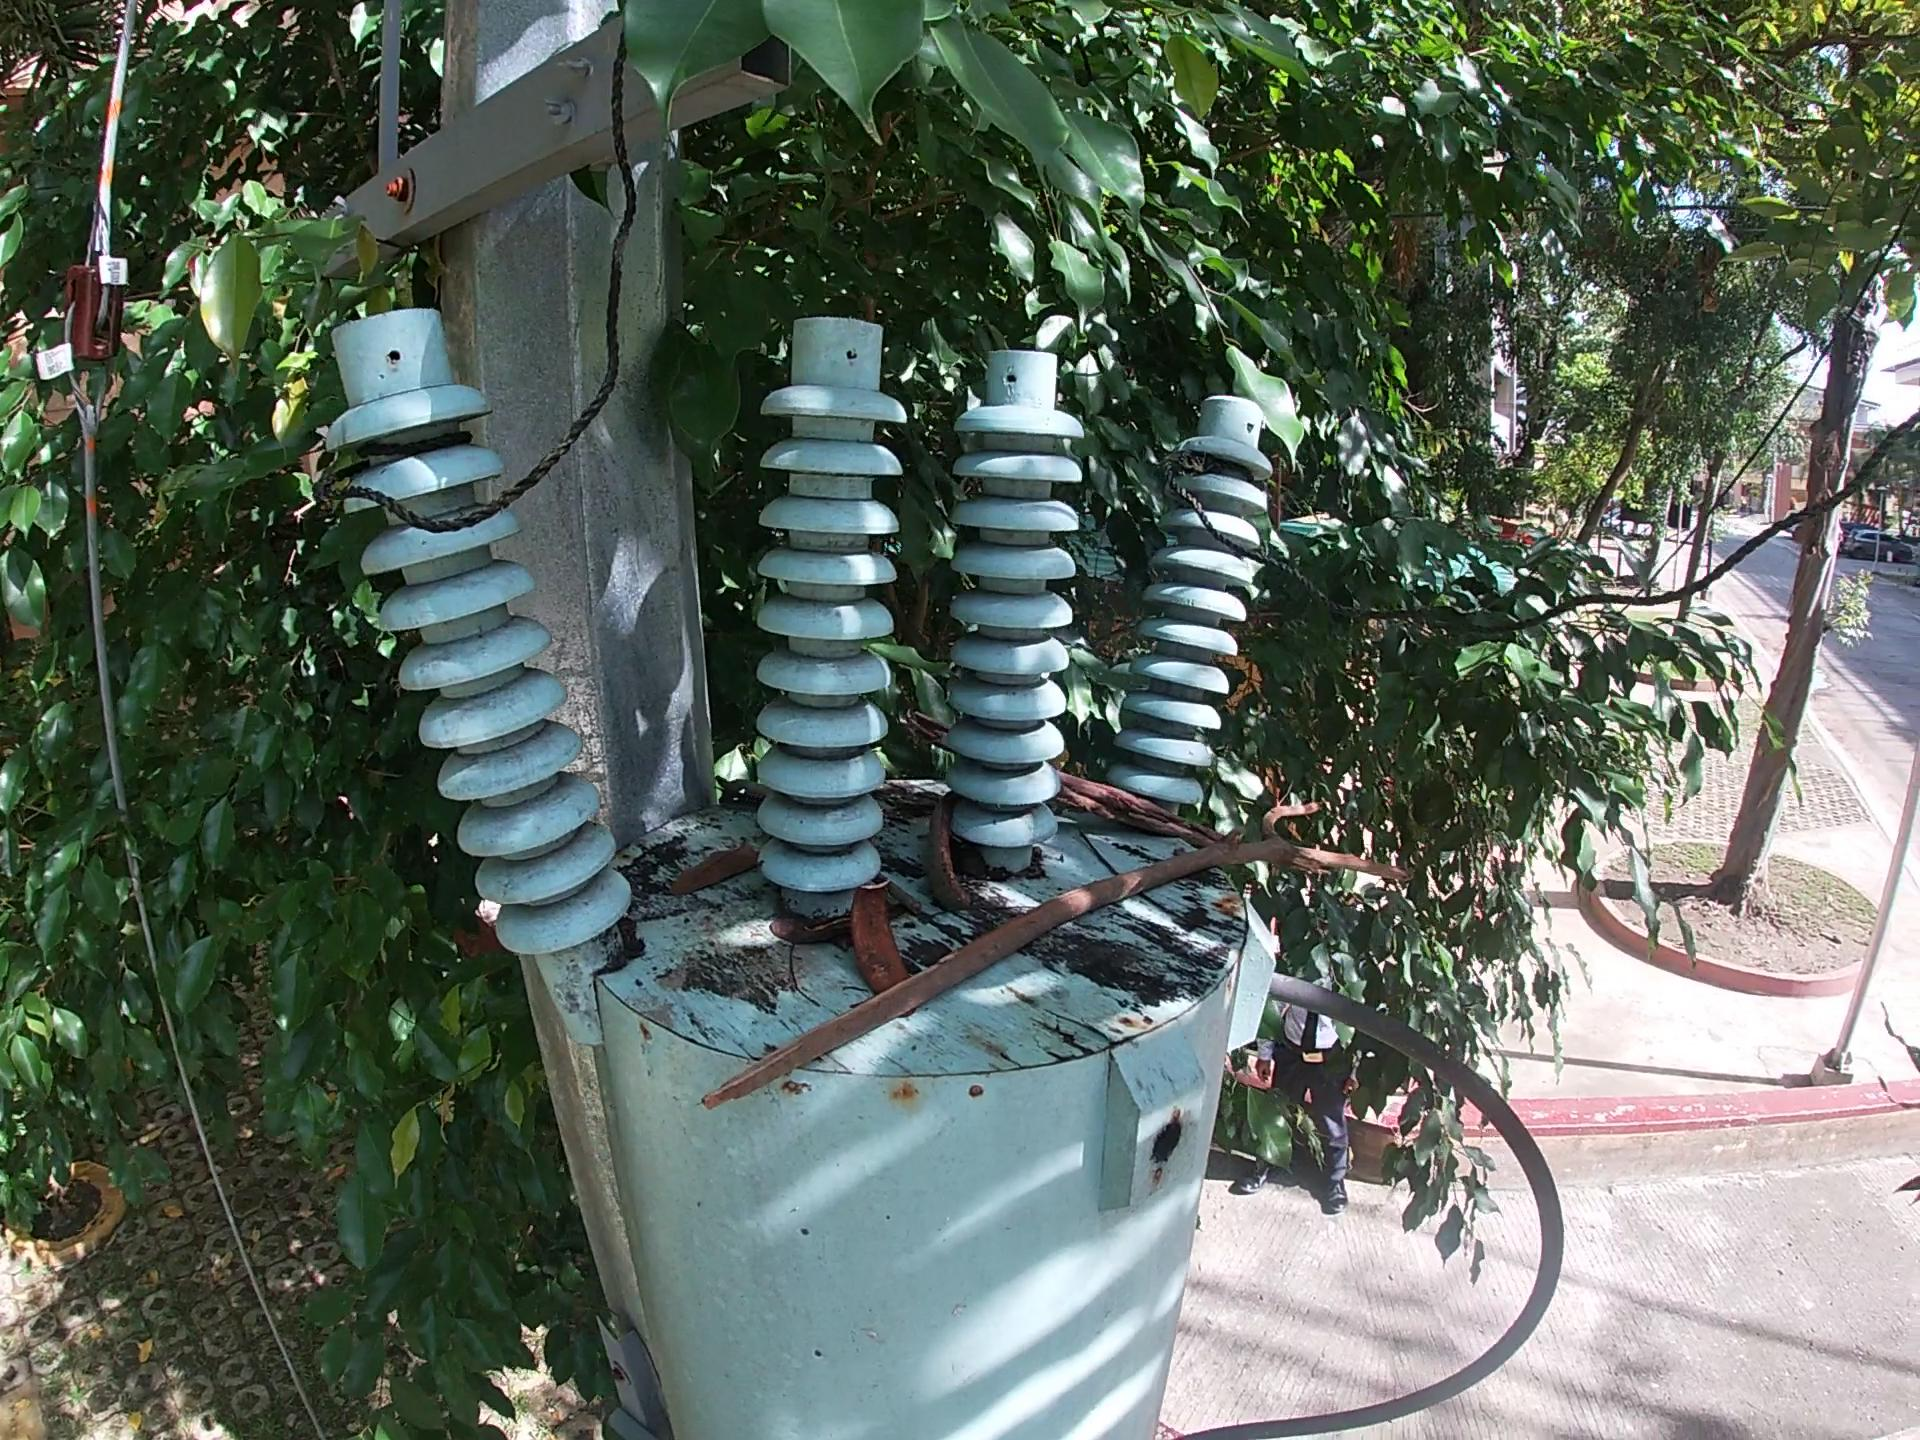leaf: (665, 839, 760, 906), (762, 905, 841, 956)
mahogany fruit: (847, 877, 909, 994), (925, 791, 974, 912)
tree branch: (695, 799, 1420, 1122), (1052, 771, 1231, 855), (875, 871, 933, 924)
